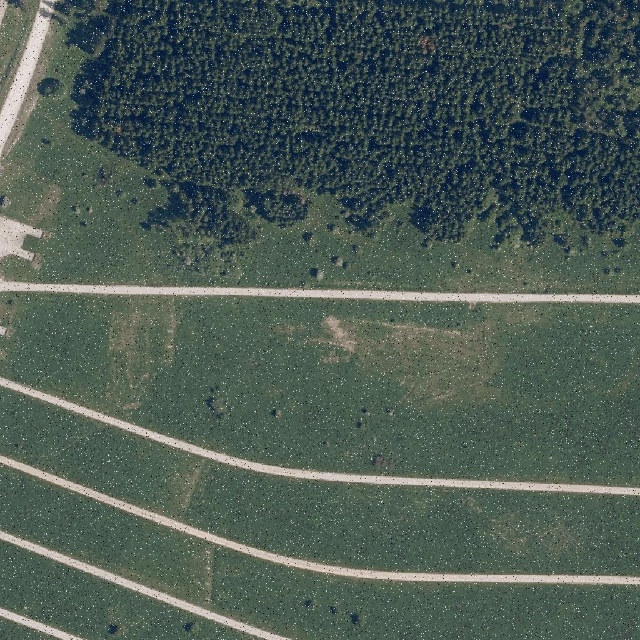vegetation: (60, 0, 640, 278)
